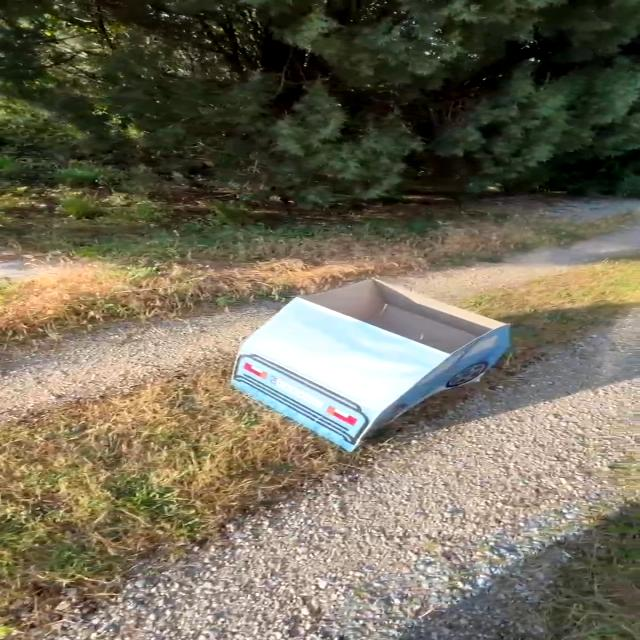blue_car: (158, 218, 540, 468)
